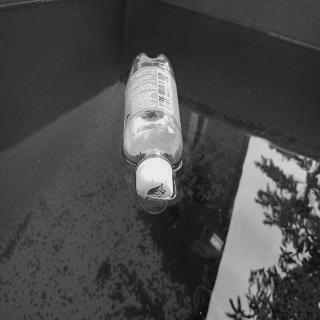bottle: (121, 49, 182, 202)
